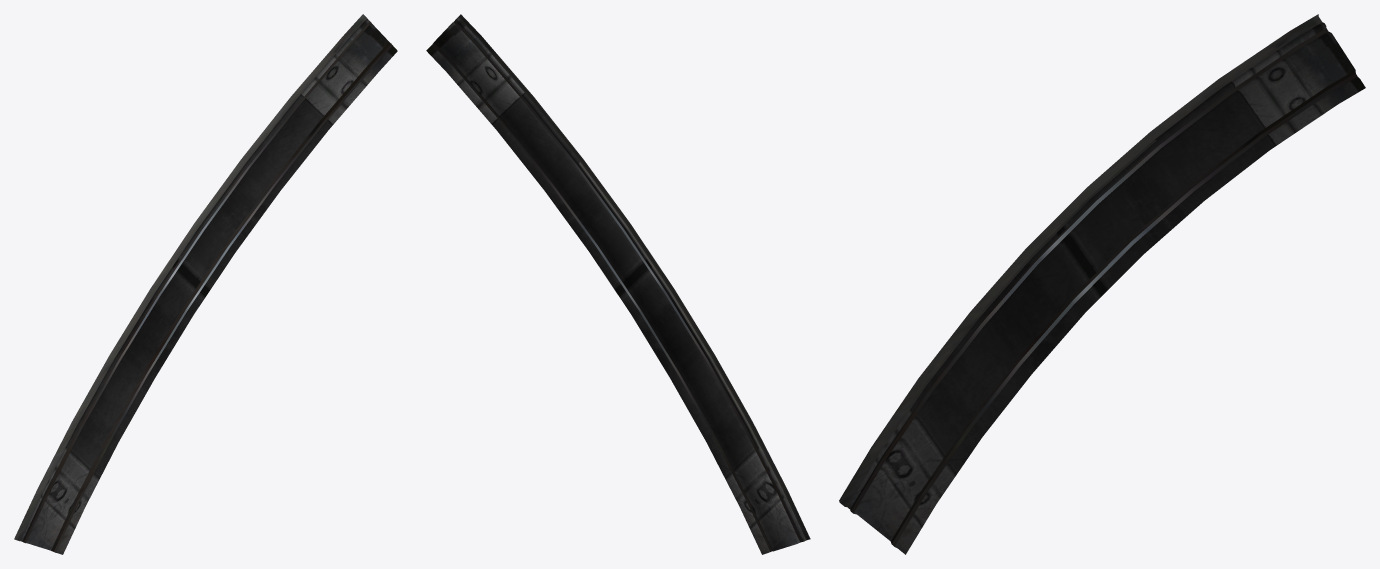
Rendered from p6_express_train_track_a01_LOD2.obj.
The picture shows the model from 3 angles, left to right: view 1: azimuth 30°, elevation 25°; view 2: azimuth 150°, elevation 25°; view 3: azimuth 330°, elevation 25°; orthographic projection. The views are drawn at different scales.
Visible parts, largest first — view 1: metal_aircraft_catapult_strip, dub_concrete_wall_01_trim_clean, railroadtrack_top, railroadtrack_side; view 2: metal_aircraft_catapult_strip, dub_concrete_wall_01_trim_clean, railroadtrack_top, railroadtrack_side; view 3: metal_aircraft_catapult_strip, dub_concrete_wall_01_trim_clean, railroadtrack_top, railroadtrack_side.
Part boxes in pixels (x1,y1,x2,y2): metal_aircraft_catapult_strip: (20,18,397,554); dub_concrete_wall_01_trim_clean: (14,14,366,541); railroadtrack_top: (24,21,392,552); railroadtrack_side: (22,42,391,551); metal_aircraft_catapult_strip: (426,17,804,554); dub_concrete_wall_01_trim_clean: (458,14,810,540); railroadtrack_top: (432,21,801,551); railroadtrack_side: (433,42,802,551); metal_aircraft_catapult_strip: (847,22,1365,554); dub_concrete_wall_01_trim_clean: (839,14,1321,506); railroadtrack_top: (850,28,1357,546); railroadtrack_side: (850,70,1355,543).
Bounding box in the file's own units: 3034 × 3529 × 19.17.
